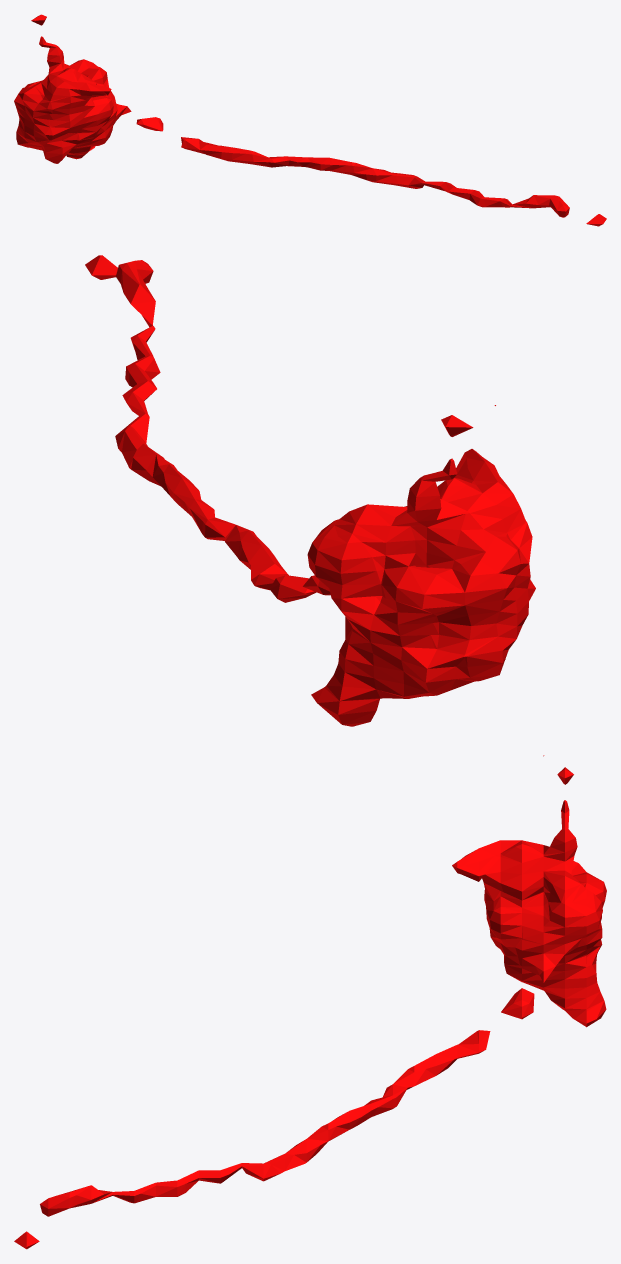
Rendered from nrdD_coarse.dae.
The picture shows the model from 3 angles, top to bottom: view 1: azimuth 30°, elevation 25°; view 2: azimuth 150°, elevation 25°; view 3: azimuth 270°, elevation 25°; orthographic projection. The views are drawn at different scales.
Parts seen in each view (by area): view 1: nrdD; view 2: nrdD; view 3: nrdD.
Part boxes in pixels (left/top/right/bottom): nrdD: left=14, top=14, right=606, bottom=226; nrdD: left=85, top=255, right=535, bottom=726; nrdD: left=14, top=755, right=606, bottom=1249.
Bounding box in the file's own units: 285 × 111 × 258.
